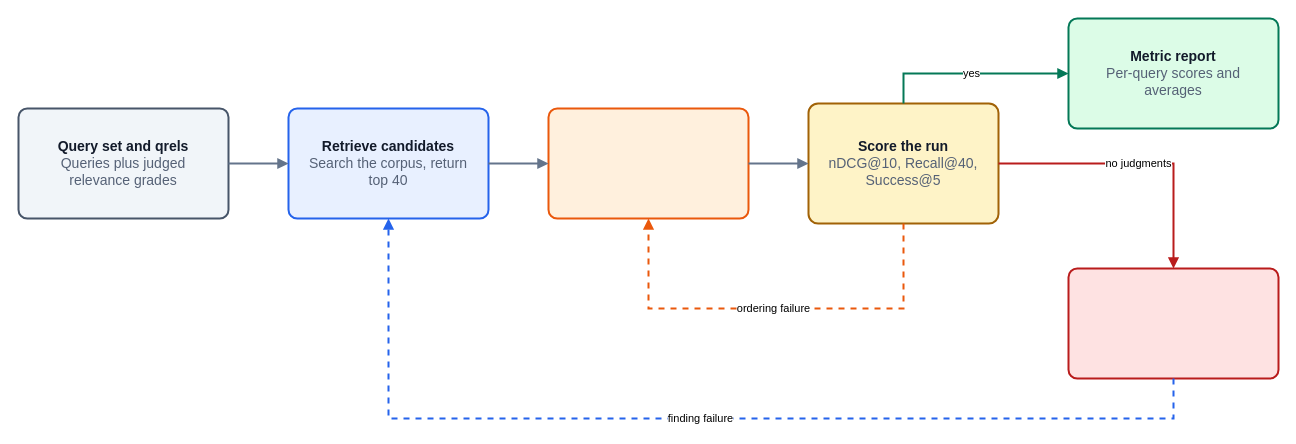
Image size: 1296x444. Some labels were removed from this diagram. The centre of each missing label's shape, as x and y in pixels:
"Abstain The query set lacks judgments" goes at pixel 1173 323.
"Rerank candidates Reorder the 40, remove none" goes at pixel 648 163.
